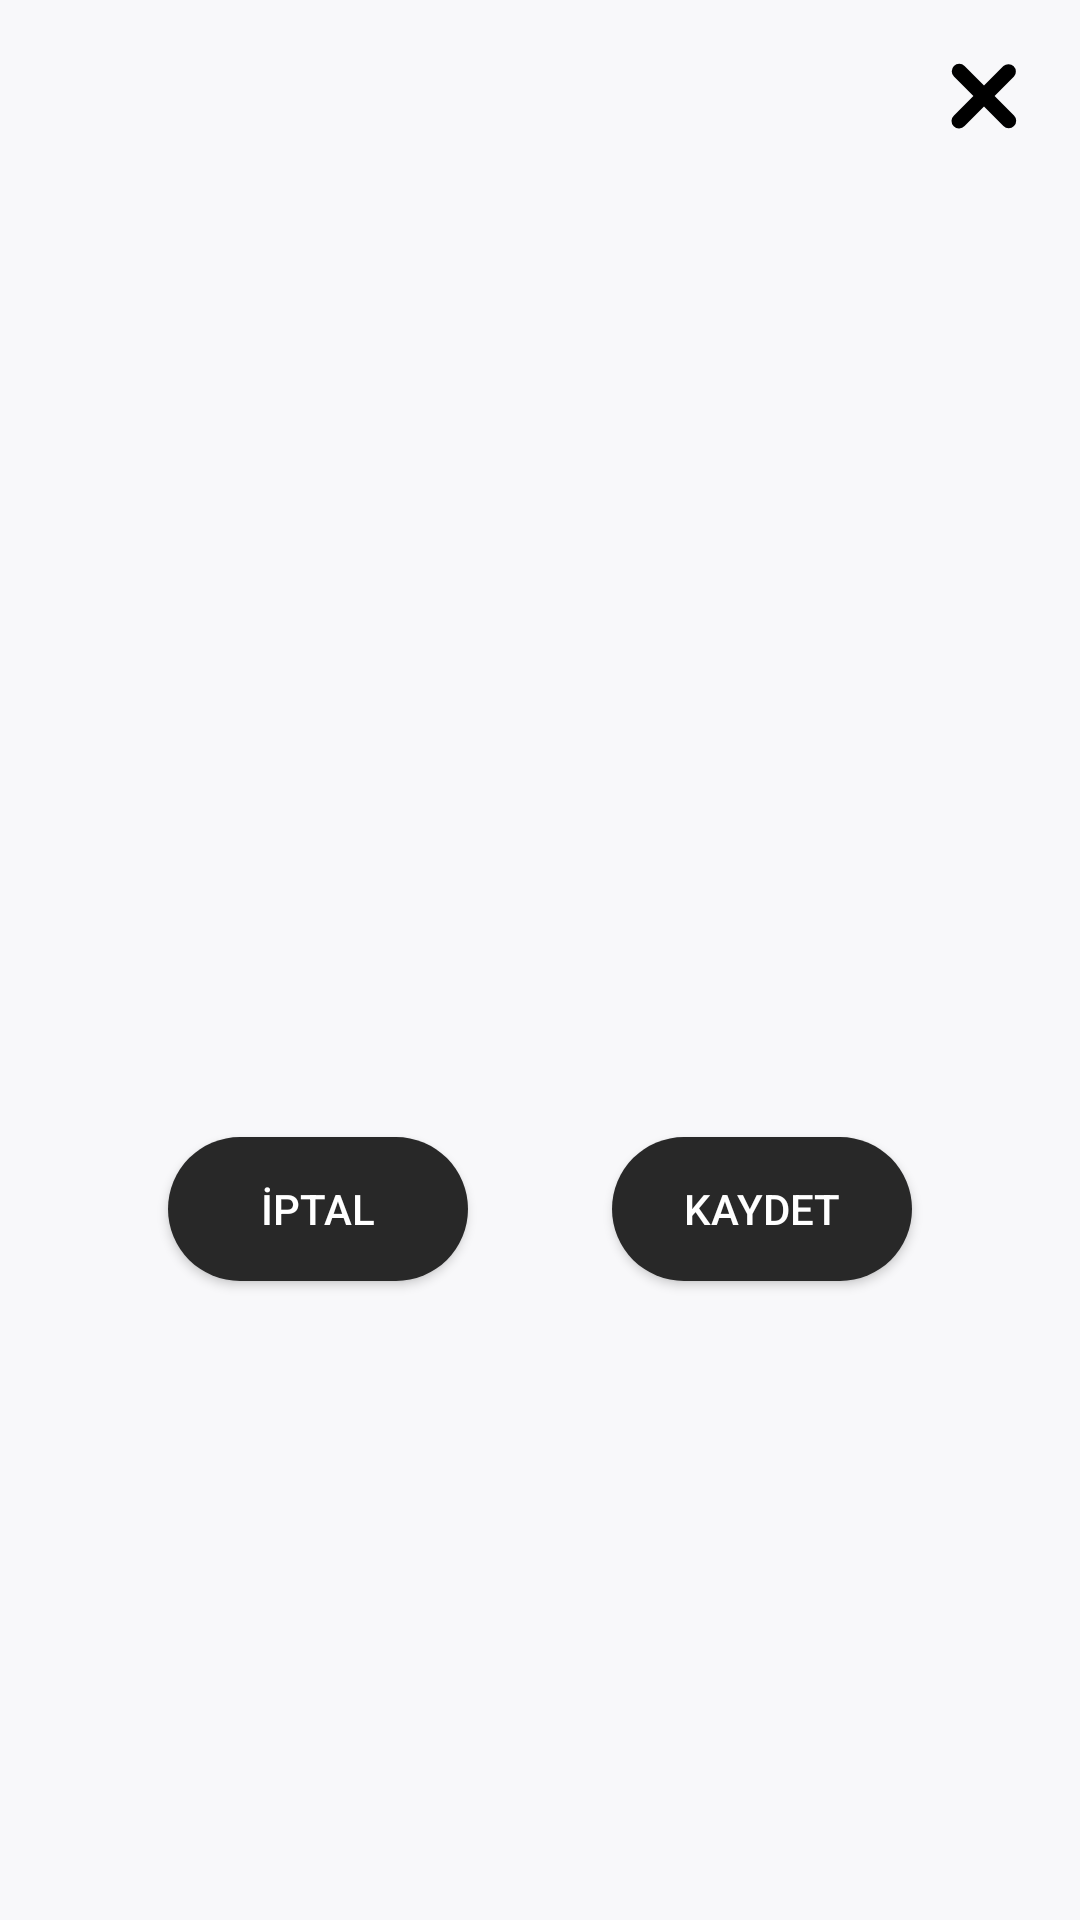

Icons on this 1080 × 1920 Android screen, each with its box as (x1, y1, x2, y2):
cancel: (951, 63, 1017, 129)
